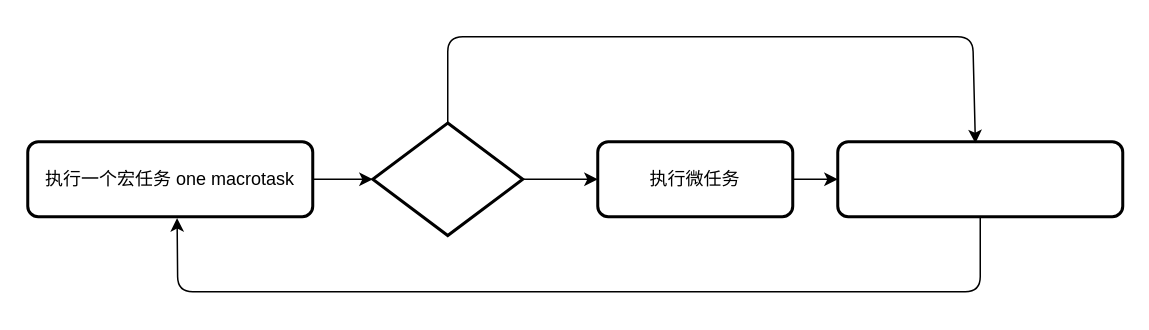
Some shapes in this 1149 by 330 pixel diagram are drawn without their labels. Each missing label, with the centre of its shape:
"执行下一个宏任务 next macrotask" belongs at point 980,179.
"有微任务microtask ?" belongs at point 447,178.
